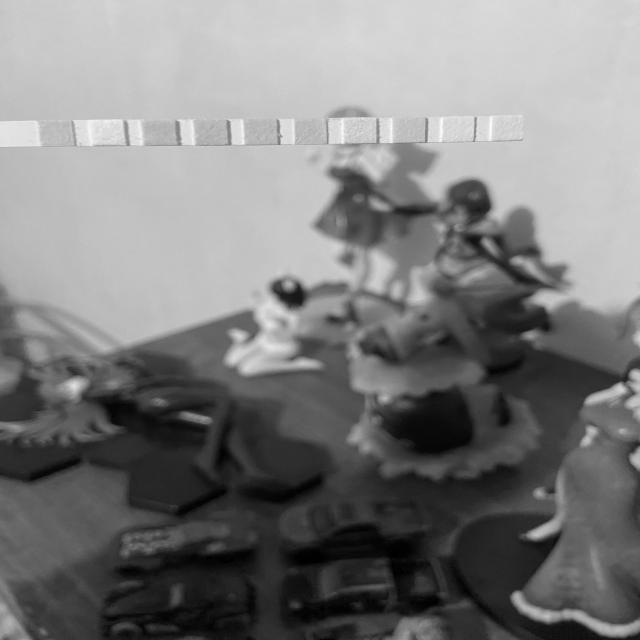Bilirubin: (92, 121, 124, 145)
Blood: (246, 120, 276, 143)
Glucose: (41, 122, 71, 144)
Ketone: (145, 120, 175, 145)
Leukocytes: (493, 117, 520, 140)
Nitrite: (443, 118, 472, 141)
Protein: (345, 119, 375, 142)
SpGravity: (195, 121, 227, 144)
Urobilinogen: (394, 119, 424, 141)
background: (0, 0, 640, 640)
pH: (295, 120, 326, 143)
strip: (1, 116, 522, 147)
